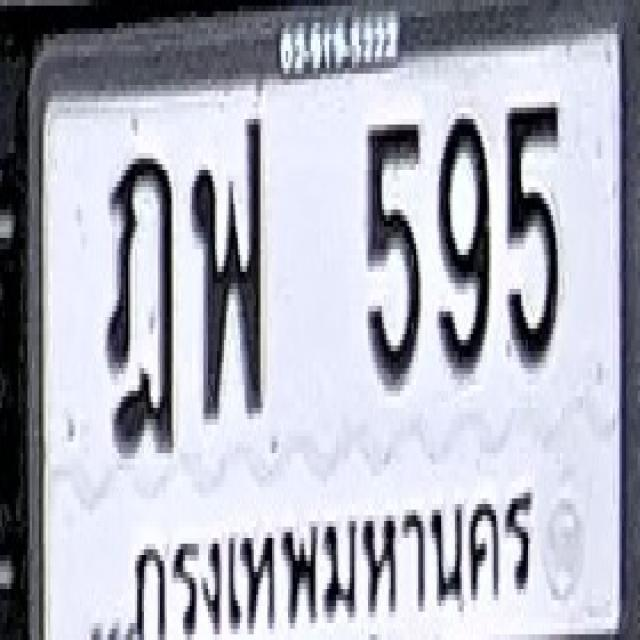5: (366, 119, 420, 385), (506, 99, 559, 365)
9: (437, 113, 489, 374)
A14: (105, 153, 174, 453)
A30: (190, 116, 263, 416)
A31: (190, 113, 263, 419)
BKK: (125, 470, 540, 640)
